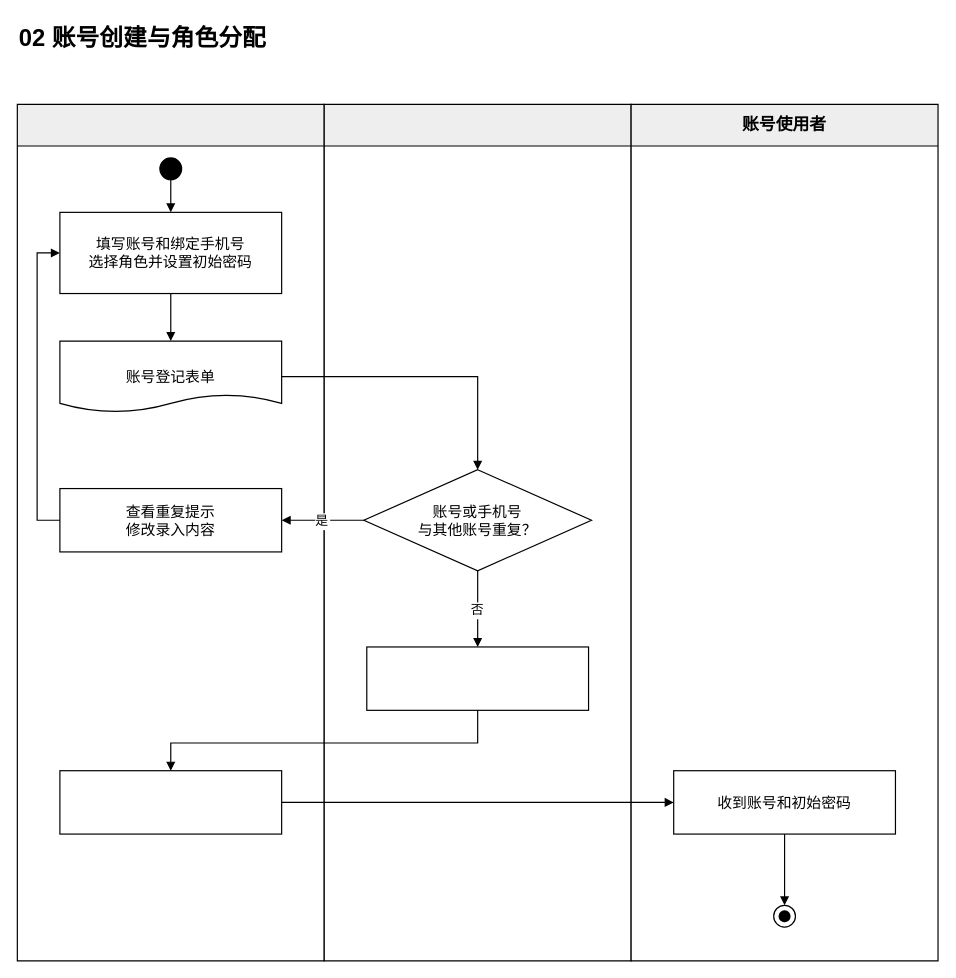
Image size: 956x978. Some labels were removed from this diagram. The shapes that lost their labels are listed below. From the top down, each one's box as (x1, y1, x2, y2) in pixels, then its label:
(16, 103, 324, 961): 管理员
(323, 103, 631, 961): 系统
(366, 646, 589, 710): 创建账号 保存角色及初始密码
(59, 770, 282, 834): 告知账号使用者 账号和初始密码
